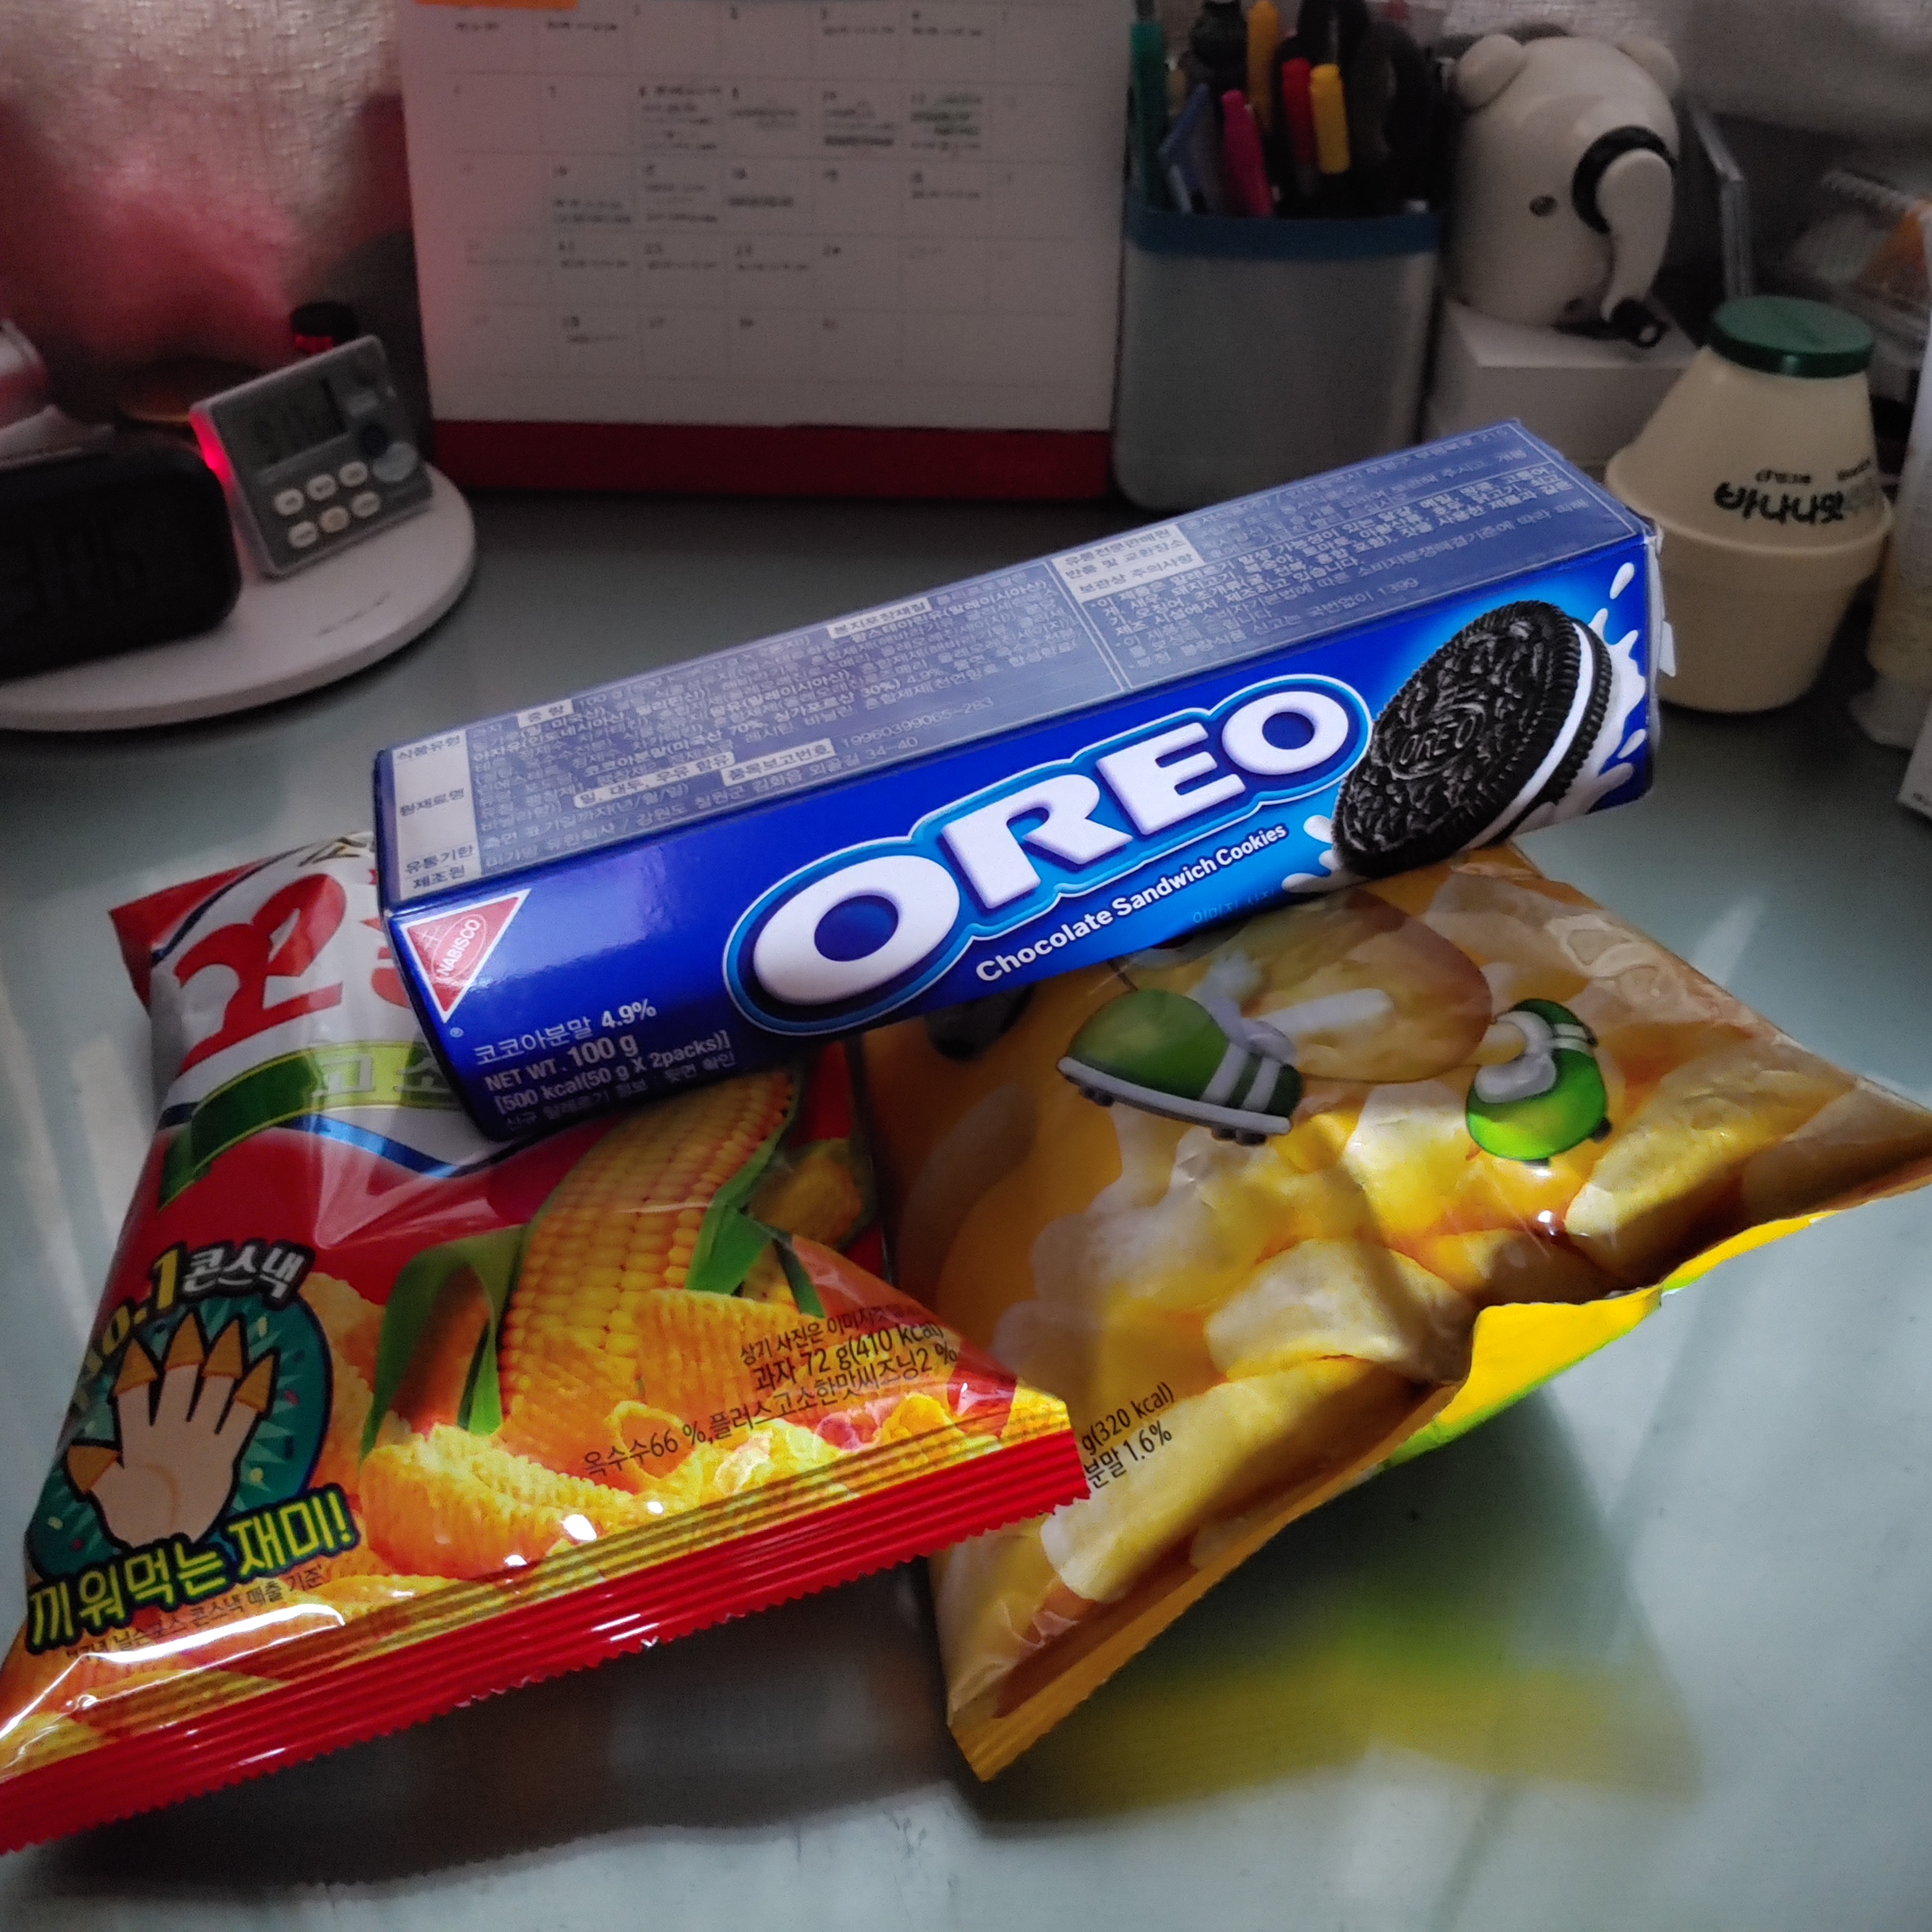banana: (800, 847, 1932, 1831)
ggoggalcon: (14, 810, 1102, 1877)
oreo: (318, 456, 1783, 1185)
